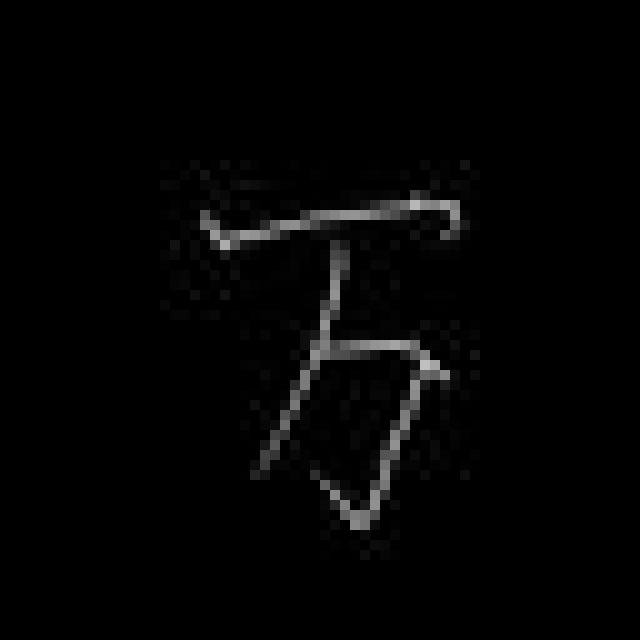10000 -a ten thousand-: (186, 180, 471, 542)
